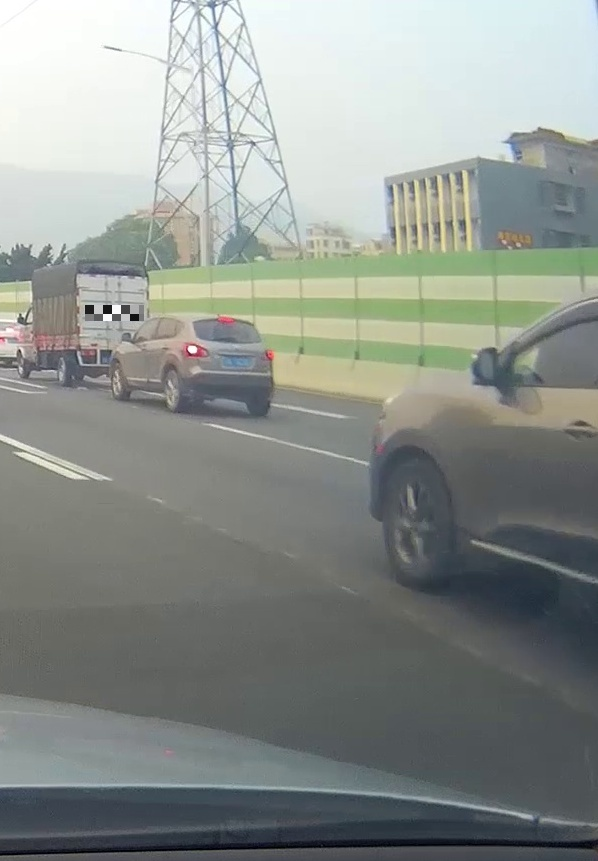L_light: (183, 342, 209, 359)
R_light: (261, 349, 274, 361)
T_light: (217, 317, 234, 323)
day-left: (174, 314, 275, 416)
plate_1: (85, 305, 144, 321)
